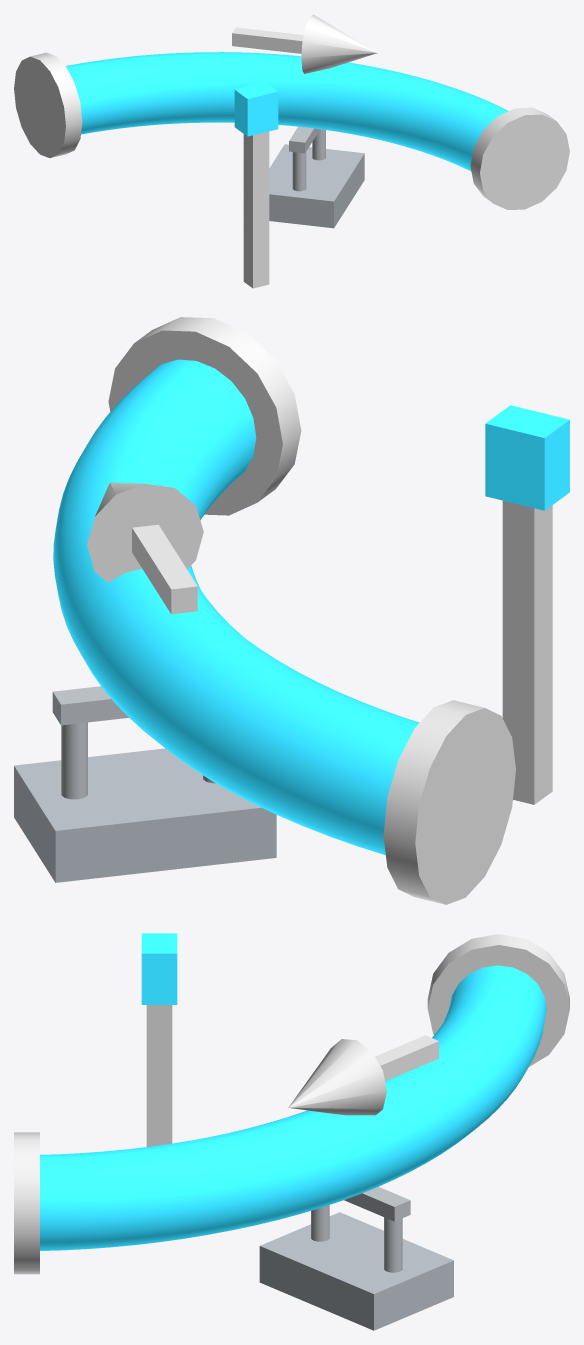
File: Pipeline-turn-right.glb
3 views of the same model, one above another, from view 1: azimuth 30°, elevation 25°; view 2: azimuth 150°, elevation 25°; view 3: azimuth 270°, elevation 25° (orthographic). The views are drawn at different scales.
Visible parts, largest first — view 1: pipe_bend, flange (×2), footing, marker_post, flow_arrow, marker_cap, shaft, support_post (×2), crossbar; view 2: pipe_bend, flange (×2), footing, marker_post, marker_cap, flow_arrow, shaft, crossbar, support_post; view 3: pipe_bend, footing, flange (×2), flow_arrow, marker_post, marker_cap, shaft, support_post (×2), crossbar.
Boxes of the visible parts, box(x1,y1,x2,y2) form: pipe_bend: box(65, 52, 508, 171); flange (×2): box(14, 52, 569, 209); footing: box(269, 144, 364, 228); marker_post: box(243, 131, 269, 288); flow_arrow: box(301, 14, 377, 73); marker_cap: box(234, 82, 278, 136); shaft: box(232, 27, 303, 53); support_post (×2): box(292, 129, 325, 191); crossbar: box(289, 126, 319, 153); pipe_bend: box(53, 359, 419, 855); flange (×2): box(108, 317, 515, 904); footing: box(14, 748, 276, 882); marker_post: box(502, 500, 552, 804); marker_cap: box(485, 405, 569, 510); flow_arrow: box(87, 482, 203, 582); shaft: box(132, 524, 197, 614); crossbar: box(52, 686, 128, 725); support_post: box(61, 722, 87, 799); pipe_bend: box(40, 965, 546, 1250); footing: box(259, 1212, 453, 1330); flange (×2): box(14, 934, 569, 1274); flow_arrow: box(288, 1039, 386, 1115); marker_post: box(146, 1005, 172, 1146); marker_cap: box(141, 933, 177, 1004); shaft: box(375, 1035, 438, 1081); support_post (×2): box(311, 1205, 402, 1272); crossbar: box(344, 1186, 410, 1221).
Size of the model in its own units: 3.44 by 1.8 by 3.44.
